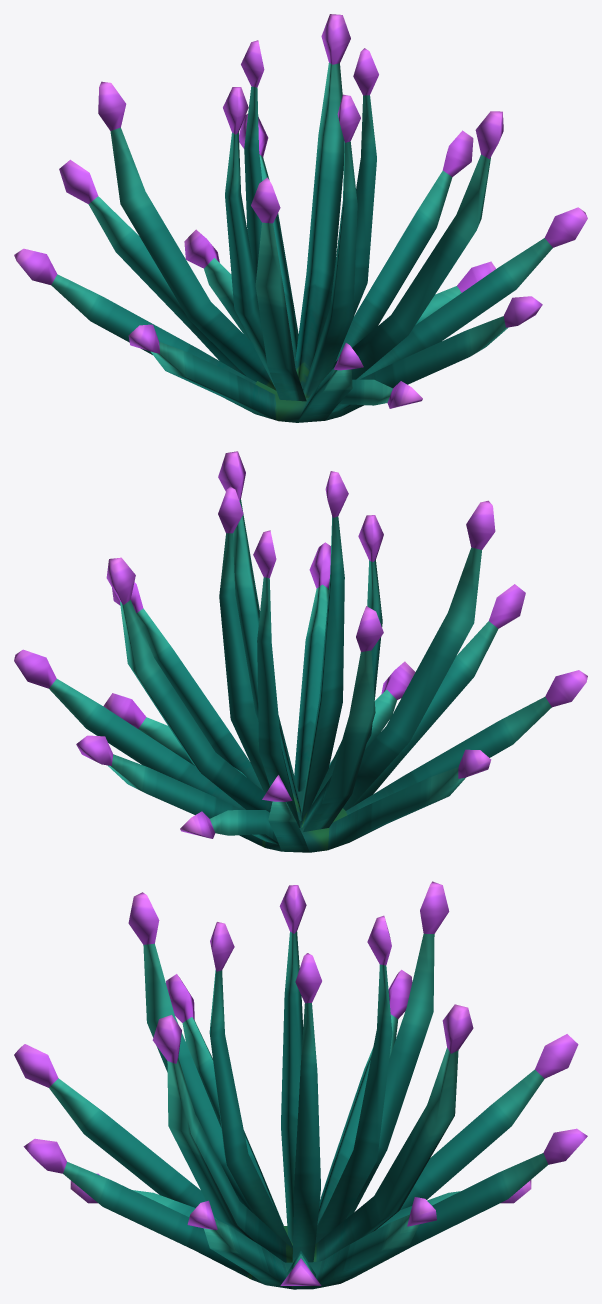
File: Snake_grass_04.fbx
3 views of the same model, one above another, from view 1: azimuth 30°, elevation 25°; view 2: azimuth 150°, elevation 25°; view 3: azimuth 270°, elevation 25° (orthographic). The views are drawn at different scales.
Parts seen in each view (by area): view 1: Snake_grass_04; view 2: Snake_grass_04; view 3: Snake_grass_04.
Part boxes in pixels (bbox=[...]): Snake_grass_04: bbox=[14, 14, 587, 422]; Snake_grass_04: bbox=[14, 451, 587, 852]; Snake_grass_04: bbox=[14, 881, 587, 1289].
Size of the model in its own units: 168 by 118 by 168.
